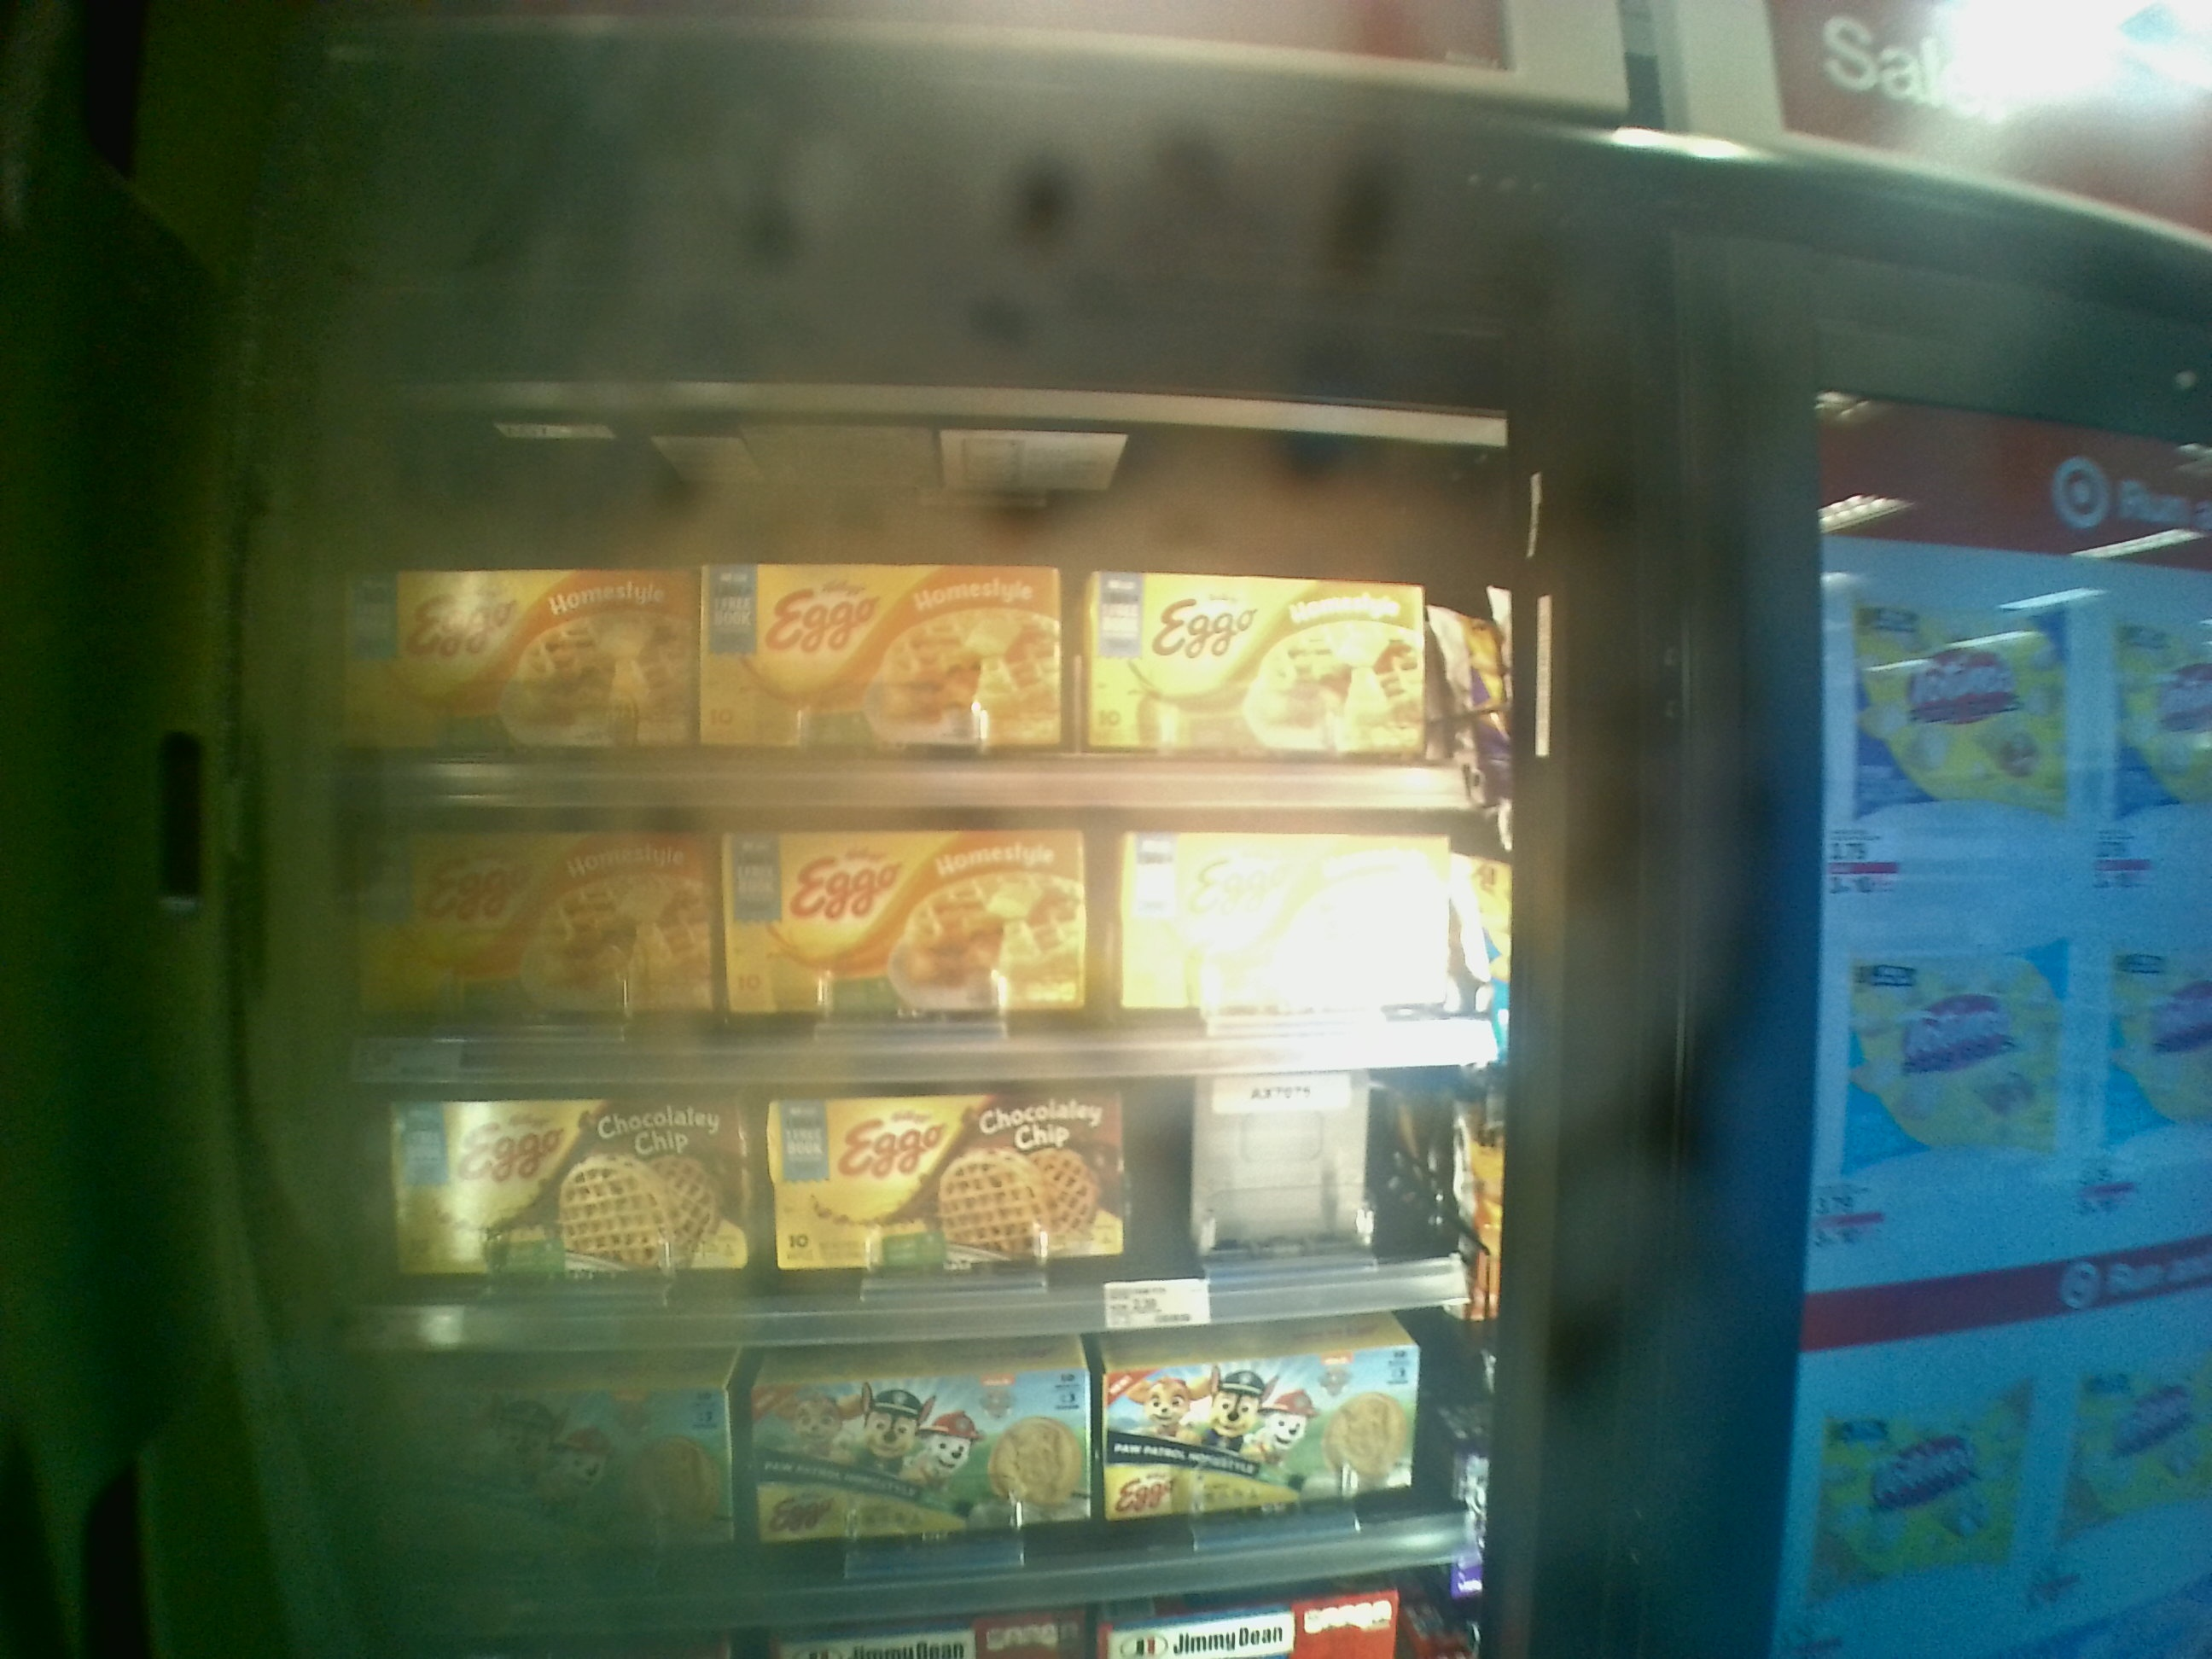shelf: (315, 380, 1496, 819), (322, 810, 1507, 1079), (355, 1093, 1449, 1359)
